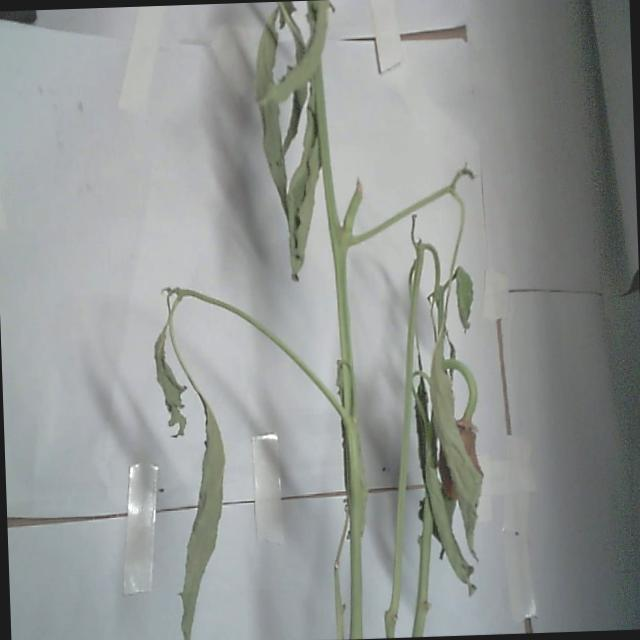Leaf: (167, 373, 229, 640), (280, 93, 326, 274), (150, 294, 189, 436)
